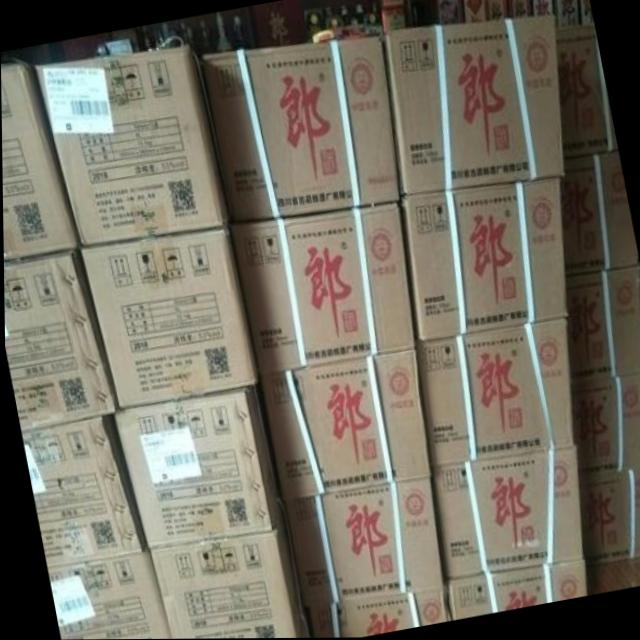box: (35, 45, 227, 245), (200, 36, 401, 224), (382, 16, 564, 197), (229, 203, 414, 375), (79, 229, 256, 407), (400, 177, 566, 342), (112, 385, 279, 549), (257, 349, 427, 499), (416, 318, 573, 466), (281, 479, 442, 610), (428, 447, 580, 582), (3, 249, 115, 432), (20, 415, 145, 566), (148, 521, 301, 639), (1, 57, 78, 261), (46, 553, 168, 640), (559, 152, 639, 277), (565, 265, 640, 383), (445, 560, 585, 621), (556, 27, 617, 159), (302, 587, 446, 638), (571, 374, 640, 473), (576, 469, 640, 565)
